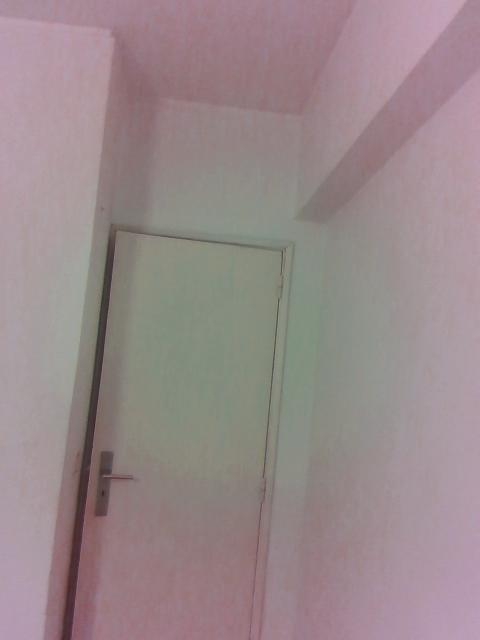closed_door: (56, 227, 293, 639)
